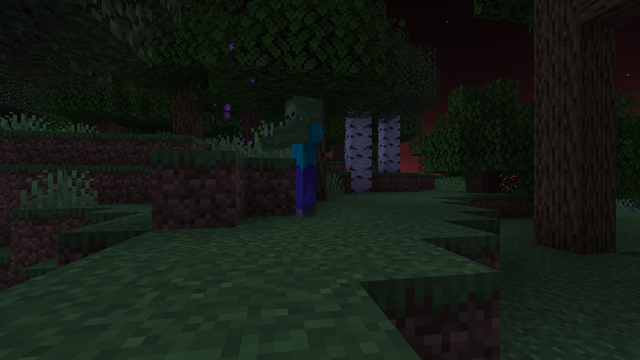zombies: (285, 98, 322, 218)
